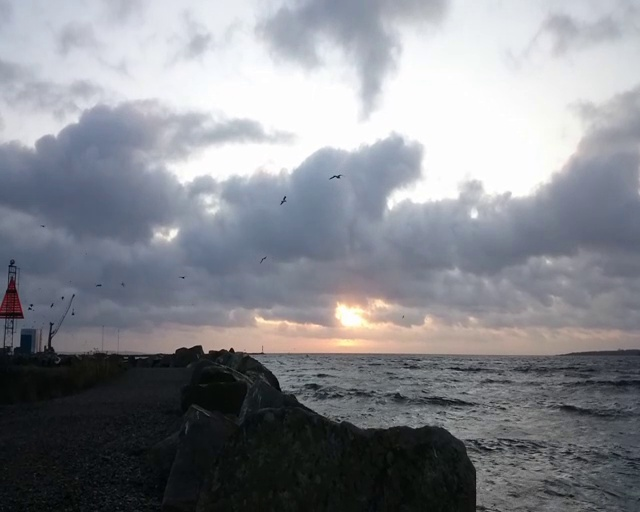BIRD: (41, 291, 76, 353)
